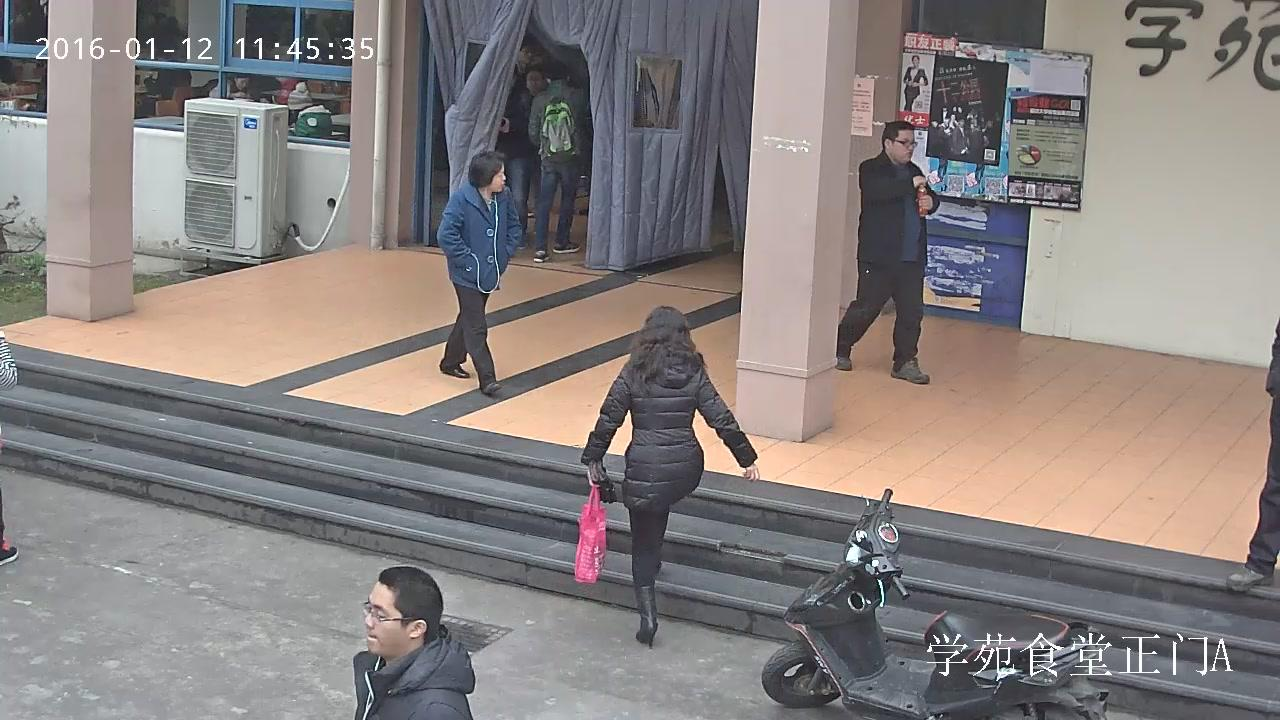person: (574, 303, 759, 651), (836, 121, 938, 383), (436, 152, 523, 393), (352, 565, 474, 720), (1226, 317, 1279, 593), (528, 60, 587, 262), (498, 69, 530, 250), (287, 81, 331, 139), (144, 49, 187, 108), (904, 55, 928, 112), (209, 73, 252, 101)
